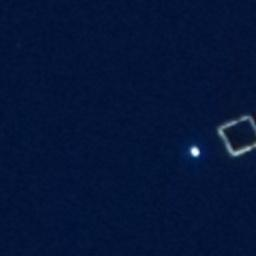square_solid: (212, 109, 256, 167)
